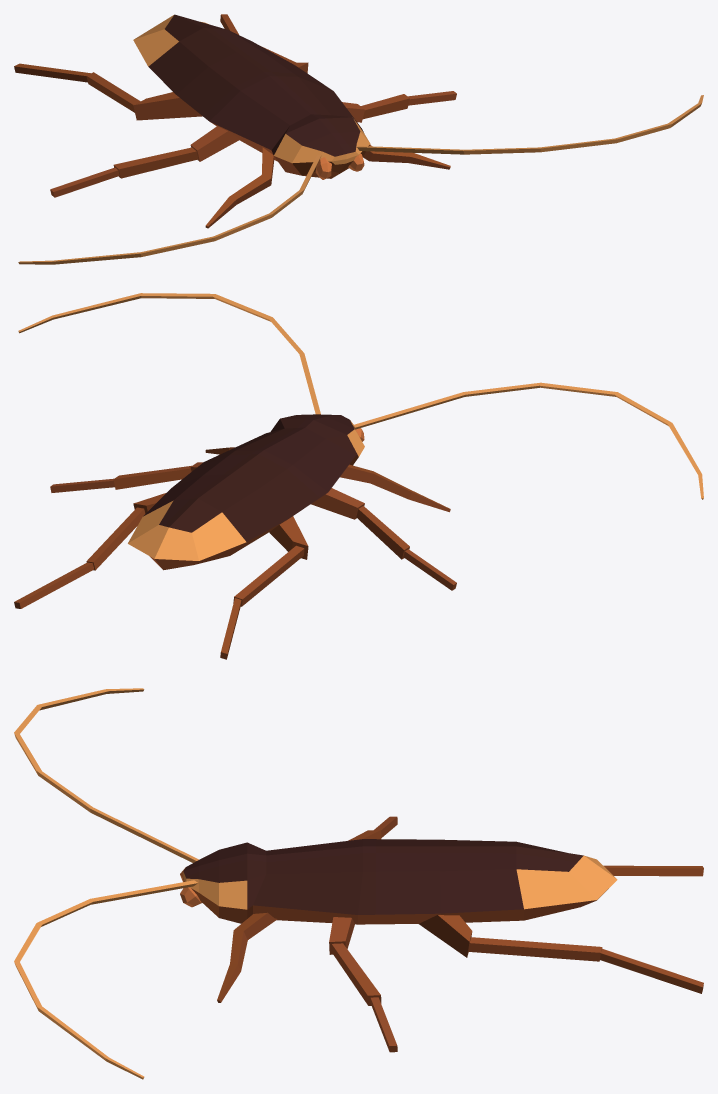
Rendered from cockroach.glb.
3 views of the same model, one above another, from view 1: azimuth 30°, elevation 25°; view 2: azimuth 150°, elevation 25°; view 3: azimuth 270°, elevation 25° (orthographic). The views are drawn at different scales.
Parts seen in each view (by area): view 1: Geo_Cockroach; view 2: Geo_Cockroach; view 3: Geo_Cockroach.
Part boxes in pixels (x1,y1,x2,y2): Geo_Cockroach: [14, 14, 703, 264]; Geo_Cockroach: [14, 293, 703, 659]; Geo_Cockroach: [14, 688, 703, 1079].
Bounding box in the file's own units: 0.08 × 0.00898 × 0.0599.
1 material, 1 textured.
